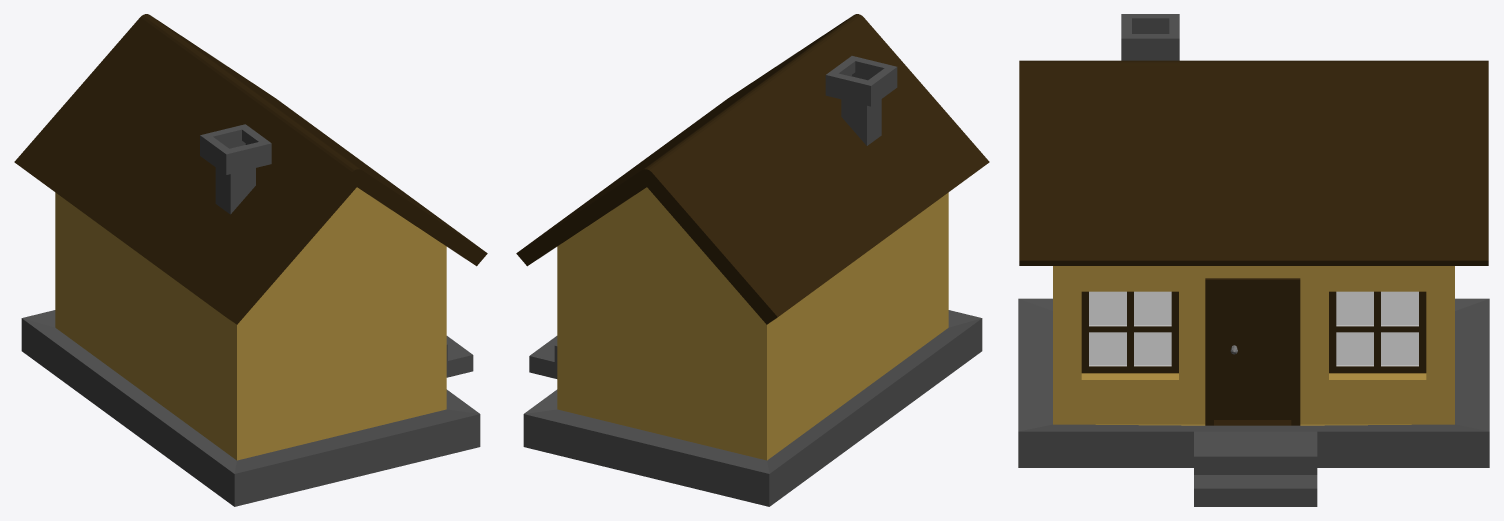
The model's file is house.gltf.
3 renders of one model, left to right at view 1: azimuth 30°, elevation 25°; view 2: azimuth 150°, elevation 25°; view 3: azimuth 270°, elevation 25°, orthographic. The views are drawn at different scales.
Visible parts, largest first — view 1: House, Roof, Foundation, Chimney, Stairs; view 2: House, Roof, Foundation, Chimney, Stairs; view 3: Roof, House, Foundation, Door, Windows, Stairs, Window Frames, Chimney.
Part boxes in pixels (x1,y1,x2,y2): House: [55, 187, 446, 460]; Roof: [14, 14, 487, 324]; Foundation: [21, 310, 480, 506]; Chimney: [200, 124, 271, 214]; Stairs: [446, 336, 473, 377]; House: [557, 187, 948, 460]; Roof: [516, 14, 989, 324]; Foundation: [523, 310, 982, 506]; Chimney: [825, 56, 897, 145]; Stairs: [529, 336, 557, 378]; Roof: [1019, 60, 1488, 265]; House: [1053, 266, 1454, 425]; Foundation: [1018, 298, 1489, 467]; Door: [1205, 278, 1300, 425]; Windows: [1089, 291, 1418, 366]; Stairs: [1194, 431, 1317, 506]; Window Frames: [1081, 291, 1426, 373]; Chimney: [1121, 14, 1179, 60].
Size of the model in its own units: 6.21 by 5.63 by 7.03.
